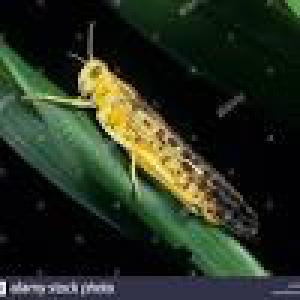locust: (73, 31, 262, 268)
